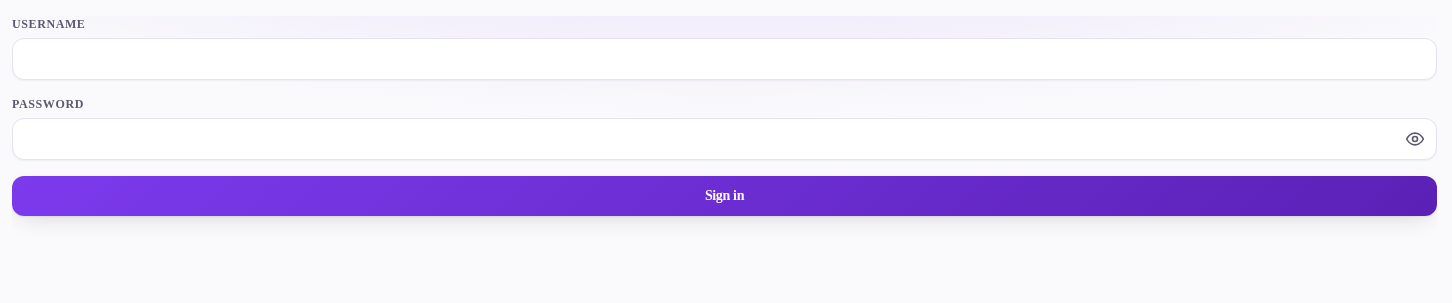
Test case: LoginForm › maps a coded 5xx error via the shared error catalog
The width and height of the screenshot is (1452, 303).
Type "  admin  " into the field labelled "Username" at (724, 59), box [12,38,1437,80]
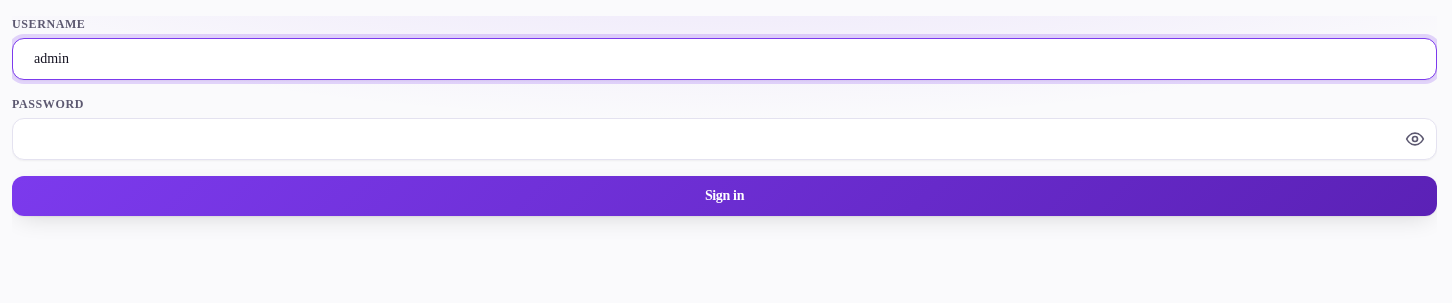
Type "secret12" into the password field labelled "Password" at (724, 139), box [12,118,1437,160]
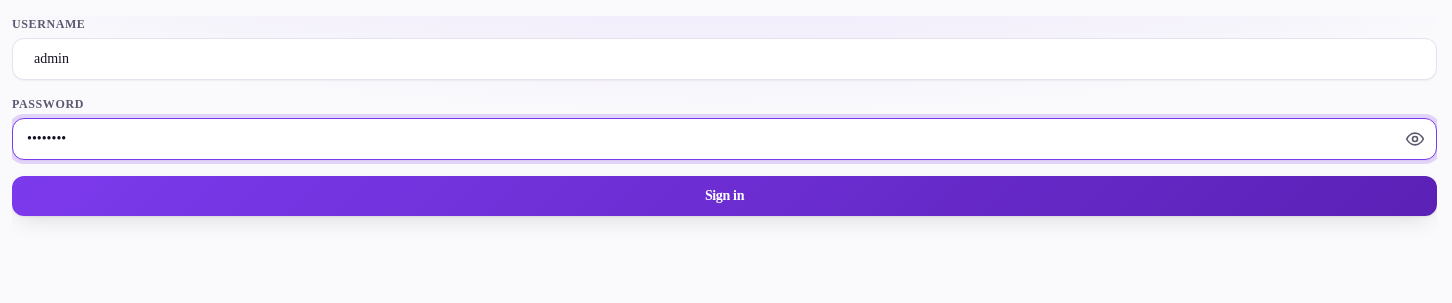
Click the button "Sign in" at (724, 196), box [12,176,1437,216]
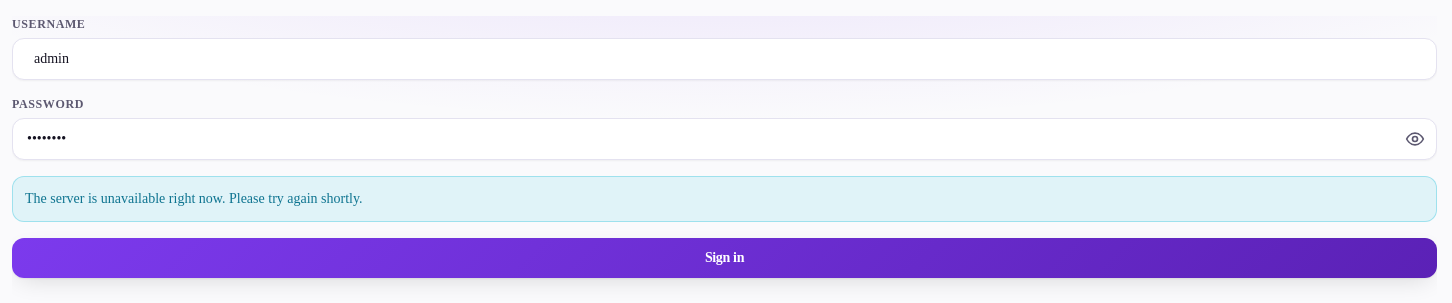
Result: the message shows "unavailable" at [25,191,363,206]
